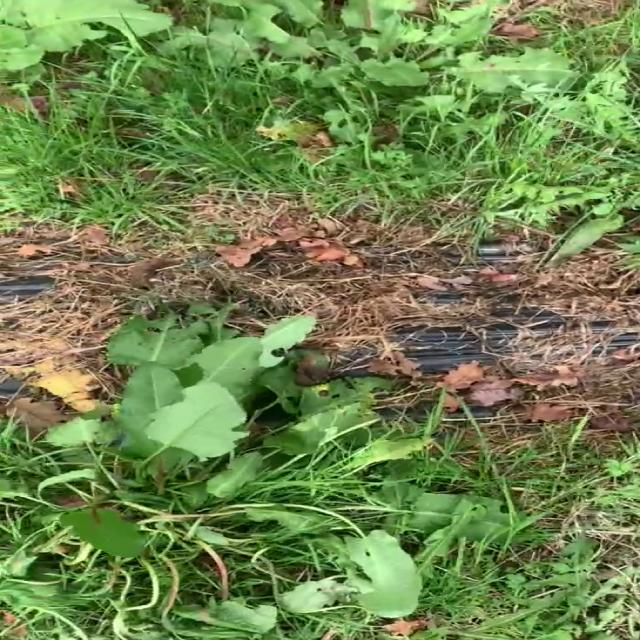organic waste: (0, 305, 438, 640), (161, 0, 603, 141), (0, 0, 217, 98)
